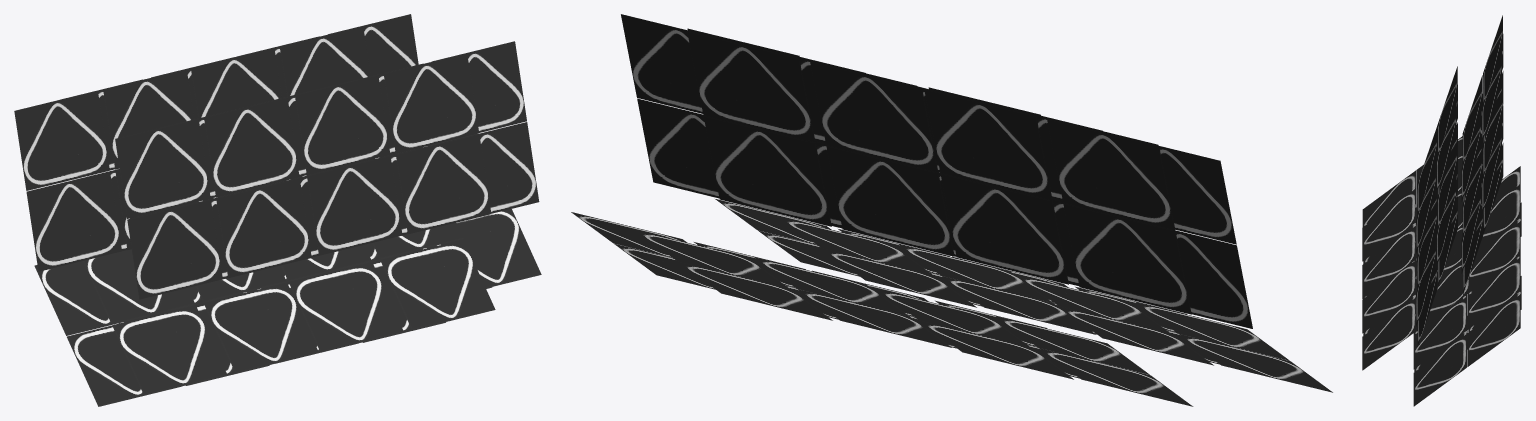
The model's file is fico.dae.
3 views of the same model, side by side, from view 1: azimuth 30°, elevation 25°; view 2: azimuth 150°, elevation 25°; view 3: azimuth 270°, elevation 25° (orthographic). The views are drawn at different scales.
Visible parts, largest first — view 1: megapattern_top (×38); view 2: megapattern_top (×36); view 3: megapattern_top (×46).
Part boxes in pixels (box(x1,y1,x2,y2)): megapattern_top (×38): box(14, 14, 541, 406); megapattern_top (×36): box(571, 14, 1332, 406); megapattern_top (×46): box(1362, 15, 1521, 406).
Size of the model in its own units: 213 by 104 by 74.4.
1 material, 1 textured.
